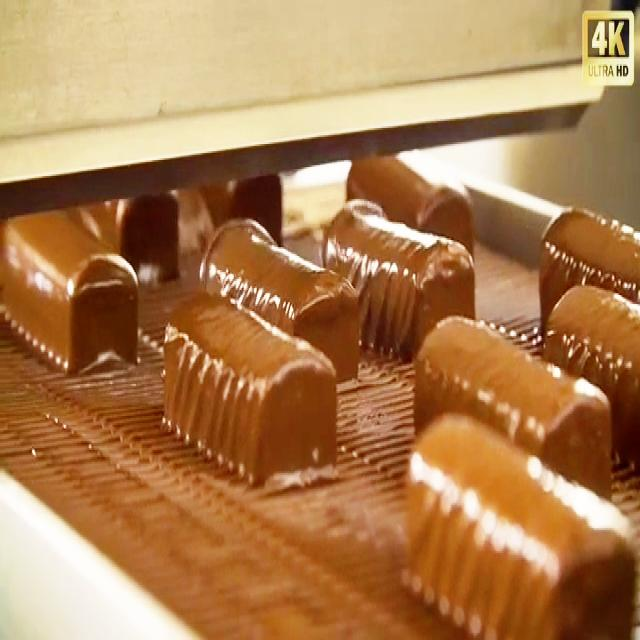Choco: (403, 409, 635, 635), (412, 309, 613, 498), (160, 286, 339, 484), (198, 214, 360, 380), (320, 194, 475, 357), (2, 203, 140, 373), (352, 153, 482, 276), (536, 201, 638, 334)
